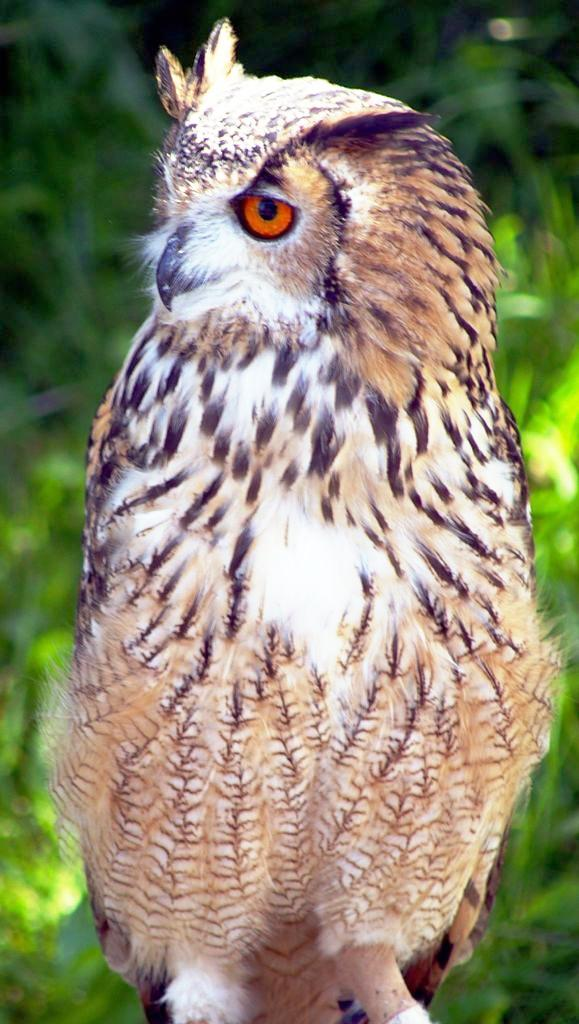Owl: (45, 45, 555, 976)
